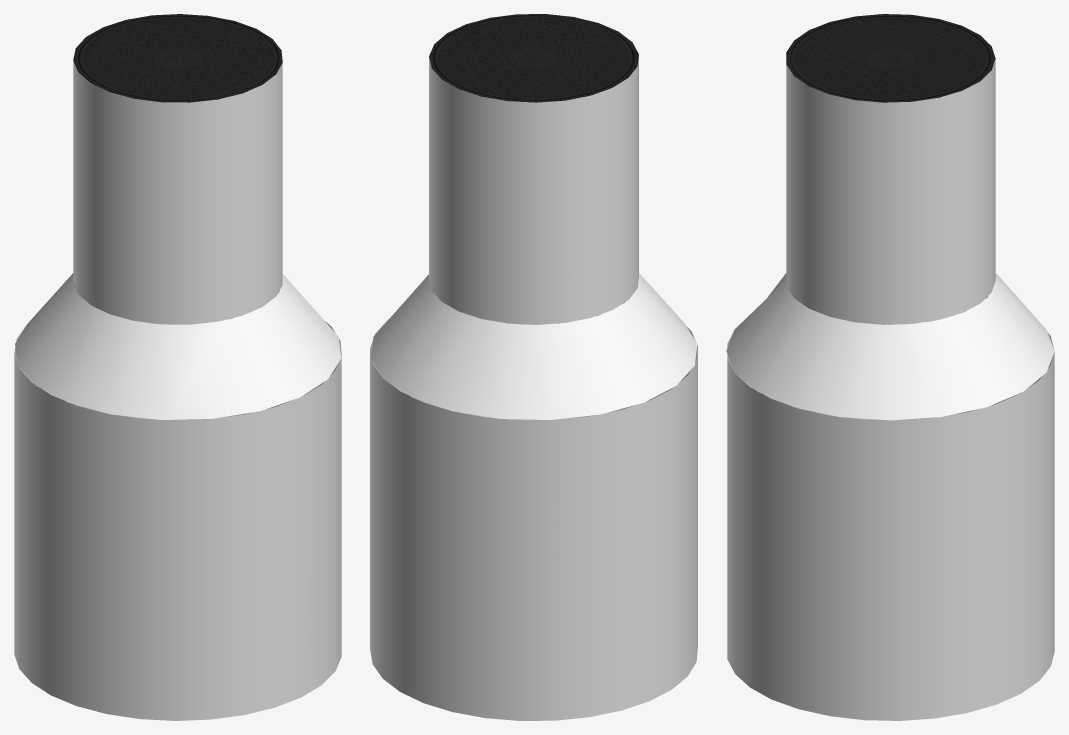
3 renders of one model, left to right at view 1: azimuth 30°, elevation 25°; view 2: azimuth 150°, elevation 25°; view 3: azimuth 270°, elevation 25°, orthographic.
Parts seen in each view (by area): view 1: node_id8, node_id12, node_id4, node_id10; view 2: node_id8, node_id12, node_id4, node_id10; view 3: node_id8, node_id12, node_id4, node_id10.
Part boxes in pixels (<box>): node_id8: <box>14,301,341,720</box>; node_id12: <box>73,61,282,324</box>; node_id4: <box>15,273,341,419</box>; node_id10: <box>73,14,282,102</box>; node_id8: <box>370,302,697,720</box>; node_id12: <box>429,55,638,324</box>; node_id4: <box>371,273,697,419</box>; node_id10: <box>429,14,638,102</box>; node_id8: <box>727,296,1054,720</box>; node_id12: <box>786,59,995,324</box>; node_id4: <box>726,273,1054,420</box>; node_id10: <box>786,14,995,102</box>.
Bounding box in the file's own units: 0.2567 × 0.512 × 0.2567.
Materials: 5 (1 with a texture image).
